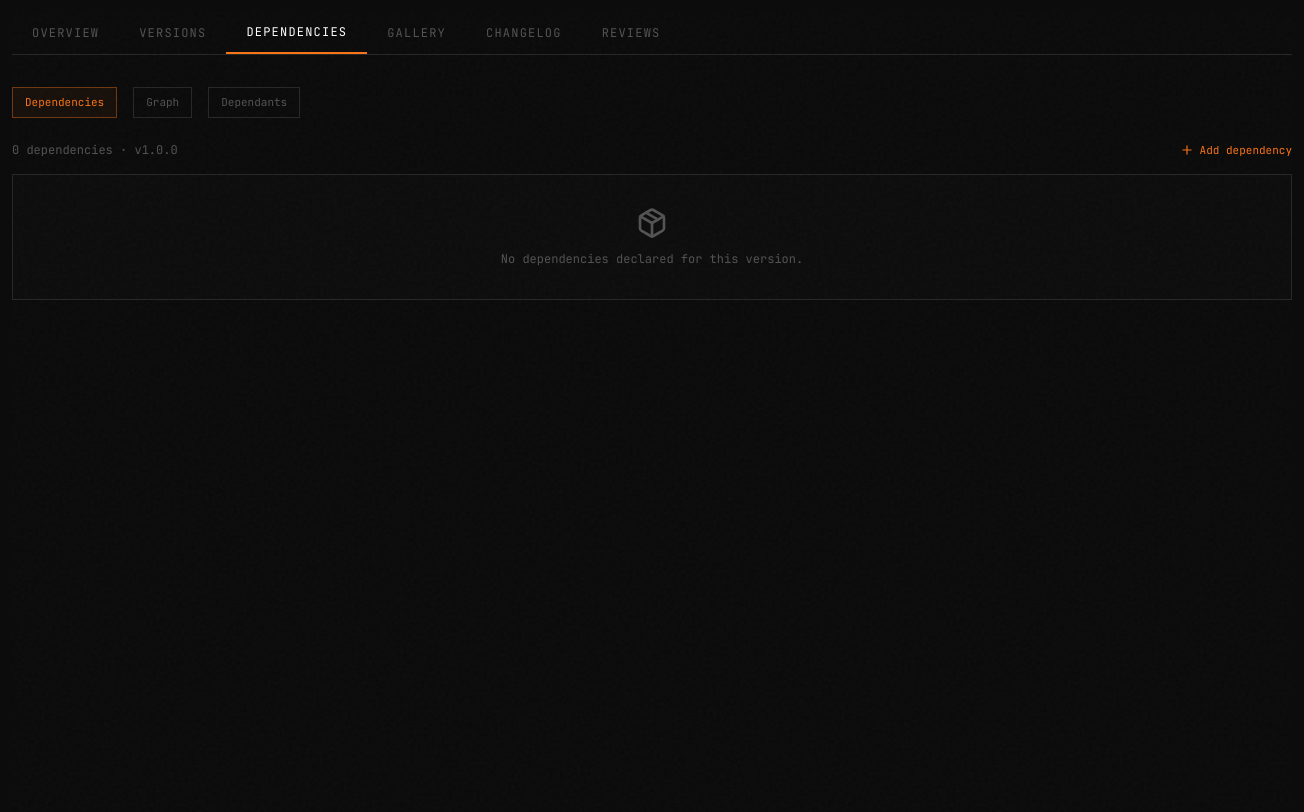
Test case: PluginContent › shows Add dependency form and validates
Step 1. Click the button "Add dependency" → click(1236, 150), box [1180,142,1292,158]
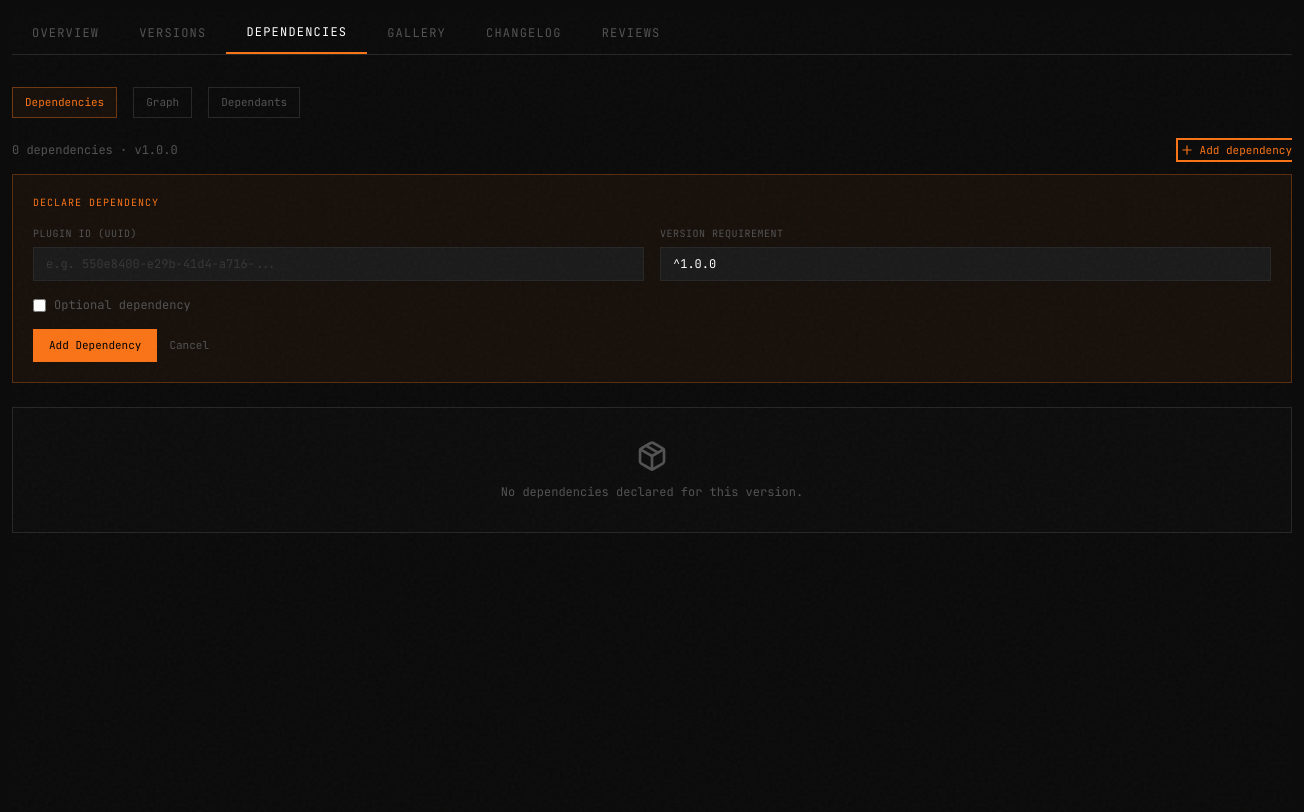
Now the text "Declare dependency" is shown, box [33,196,159,209]
# Empty submit
Step 2. Click the button "Add Dependency" → click(95, 345), box [33,329,157,362]
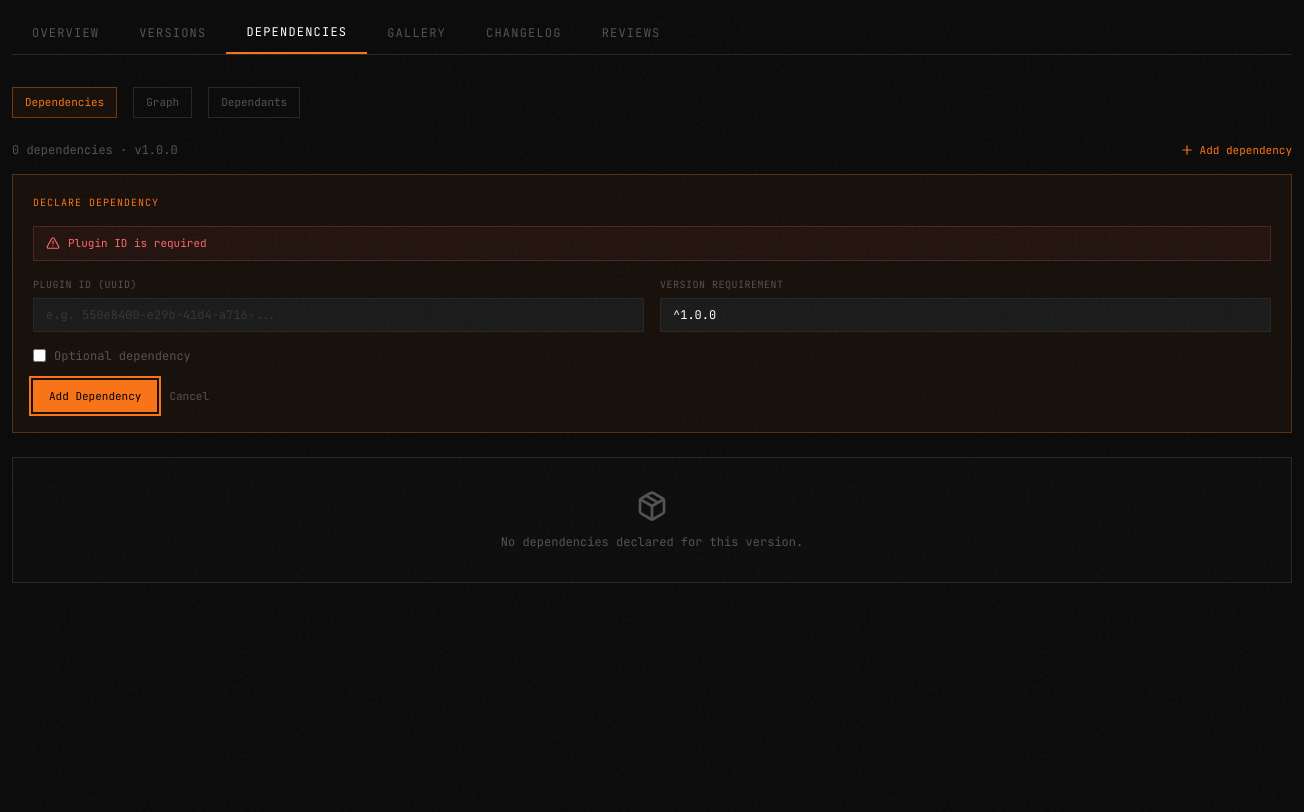
Now the text "Plugin ID is required" is shown, box [33,226,1271,260]
